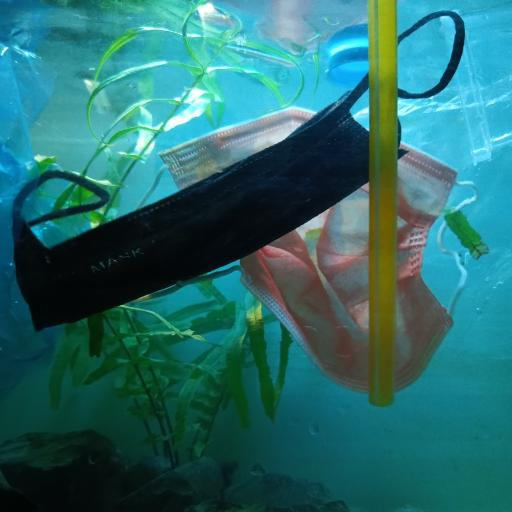mask: (12, 11, 466, 330), (156, 103, 482, 399)
plastic_bag: (0, 40, 84, 396)
plastic_straw: (367, 0, 400, 408)
